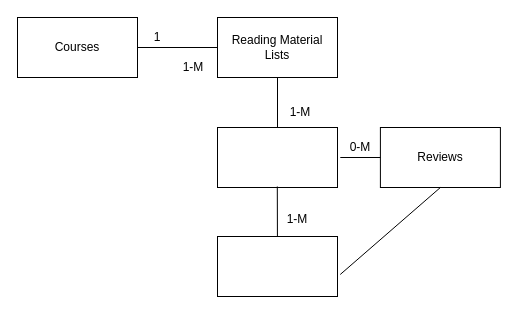
Some shapes in this 518 by 314 pixel diagram are drawn without their labels. Here are the shapes that lost their labels. From the top down, the centre of each, then its label:
At (x=277, y=157): "Books".
At (x=277, y=266): "Chapters".
